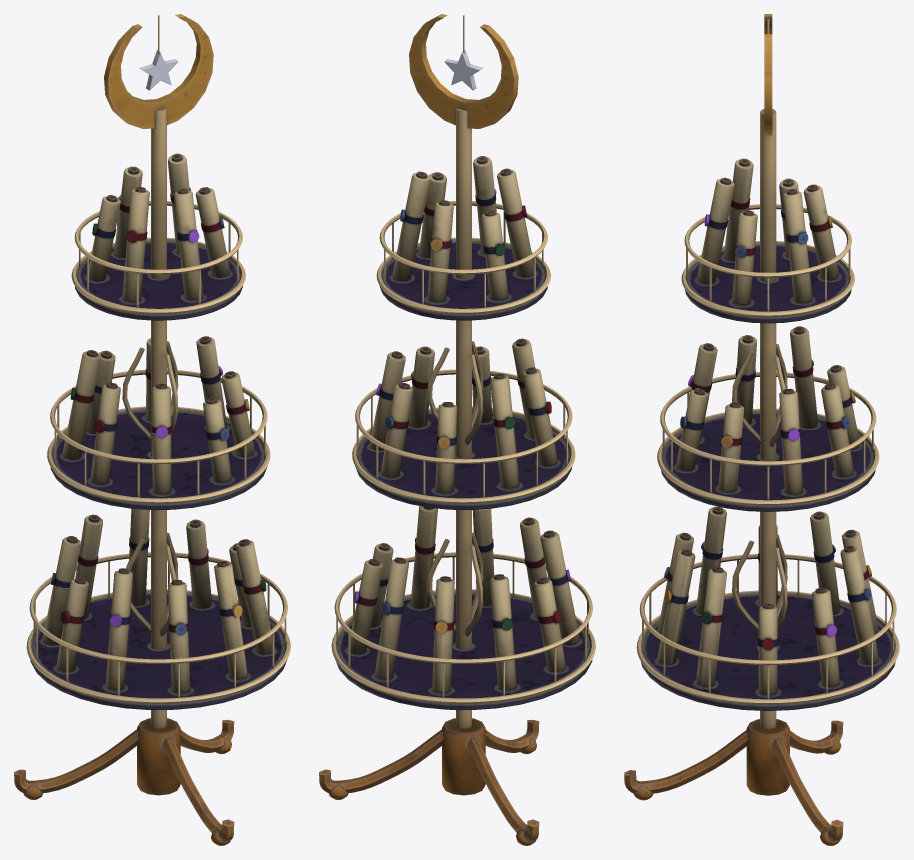
Rendered from ScrollCarousel.fbx.
3 renders of one model, left to right at view 1: azimuth 30°, elevation 25°; view 2: azimuth 150°, elevation 25°; view 3: azimuth 270°, elevation 25°, orthographic.
Parts seen in each view (by area): view 1: ScrollCarousel_Main, ScrollCarousel_Glow; view 2: ScrollCarousel_Main, ScrollCarousel_Glow; view 3: ScrollCarousel_Main.
Boxes of the visible parts, box(x1,y1,x2,y2) form: ScrollCarousel_Main: box(14, 14, 290, 845); ScrollCarousel_Glow: box(139, 50, 178, 90); ScrollCarousel_Main: box(319, 14, 595, 845); ScrollCarousel_Glow: box(444, 50, 482, 90); ScrollCarousel_Main: box(624, 14, 899, 845).
Size of the model in its own units: 194 by 634 by 203.
